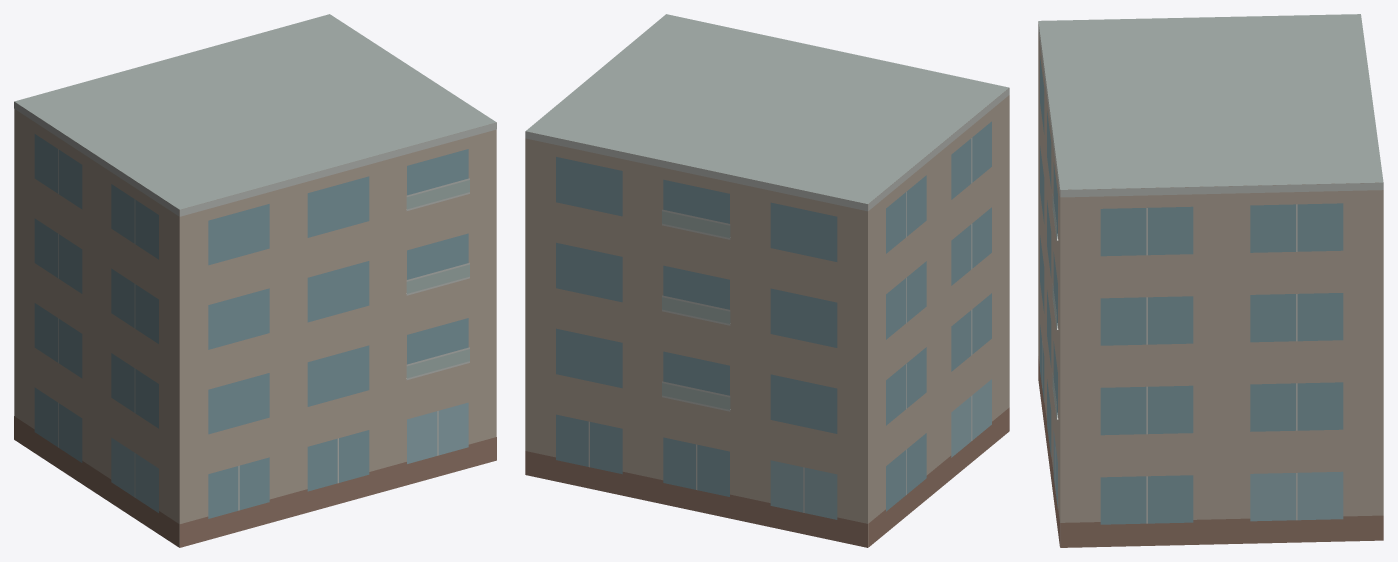
File: survey-upis-32907761.glb
3 views of the same model, side by side, from view 1: azimuth 30°, elevation 25°; view 2: azimuth 150°, elevation 25°; view 3: azimuth 270°, elevation 25° (orthographic). The views are drawn at different scales.
Parts seen in each view (by area): view 1: survey-upis-32907761.tmp; view 2: survey-upis-32907761.tmp; view 3: survey-upis-32907761.tmp.
Part boxes in pixels (x1,y1,x2,y2): survey-upis-32907761.tmp: [14, 14, 496, 547]; survey-upis-32907761.tmp: [525, 14, 1009, 547]; survey-upis-32907761.tmp: [1038, 14, 1383, 547].
Bounding box in the file's own units: 12.24 × 11.6 × 10.15.
